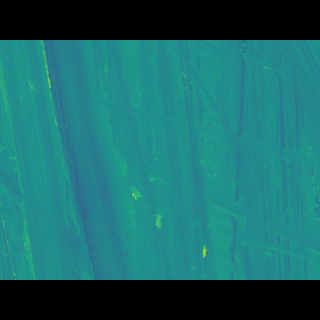Loch: (0, 69, 133, 250)
